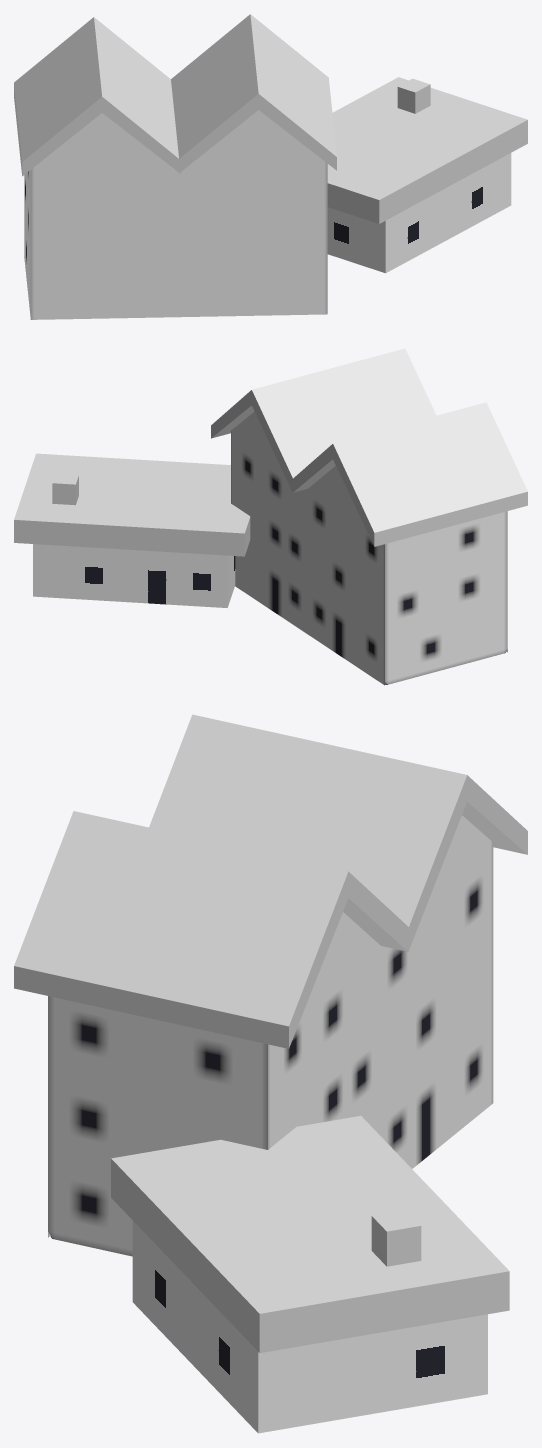
Rendered from unipoldom2.fbx.
3 renders of one model, top to bottom at view 1: azimuth 30°, elevation 25°; view 2: azimuth 150°, elevation 25°; view 3: azimuth 270°, elevation 25°, orthographic. The views are drawn at different scales.
Visible parts, largest first — view 1: bryla, dach_2, dach, dach_1, bryla_1, komin; view 2: bryla, dach, dach_2, dach_1, bryla_1, komin; view 3: bryla, dach_2, dach_1, dach, bryla_1, komin.
Part boxes in pixels (box(x1,y1,x2,y2)): bryla: box(24, 110, 327, 319); dach_2: box(327, 77, 527, 223); dach: box(14, 17, 180, 176); dach_1: box(171, 14, 336, 173); bryla_1: box(327, 153, 511, 273); komin: box(397, 78, 430, 113); bryla: box(231, 411, 507, 685); dach: box(292, 402, 527, 546); dach_2: box(14, 453, 250, 556); dach_1: box(211, 348, 436, 491); bryla_1: box(33, 544, 235, 607); komin: box(52, 474, 78, 505); bryla: box(48, 815, 493, 1256); dach_2: box(111, 1116, 509, 1352); dach_1: box(14, 811, 409, 1048); dach: box(149, 714, 527, 951); bryla_1: box(132, 1220, 487, 1433); komin: box(371, 1210, 421, 1266).
Size of the model in its own units: 388 by 168 by 207.
2 materials, 2 textured.
